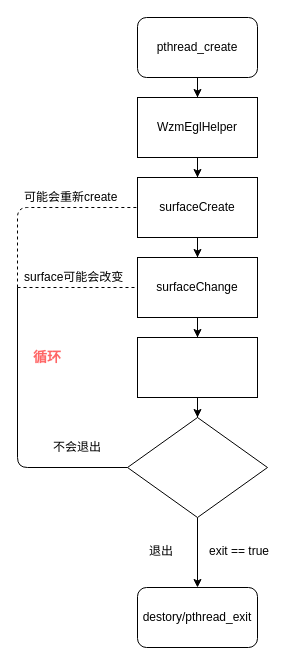
Some shapes in this 305 by 665 pixel diagram are drawn without their labels. Each missing label, with the box of its shape:
exit == false: (126, 416, 268, 518)
surfaceDraw: (136, 336, 258, 398)
